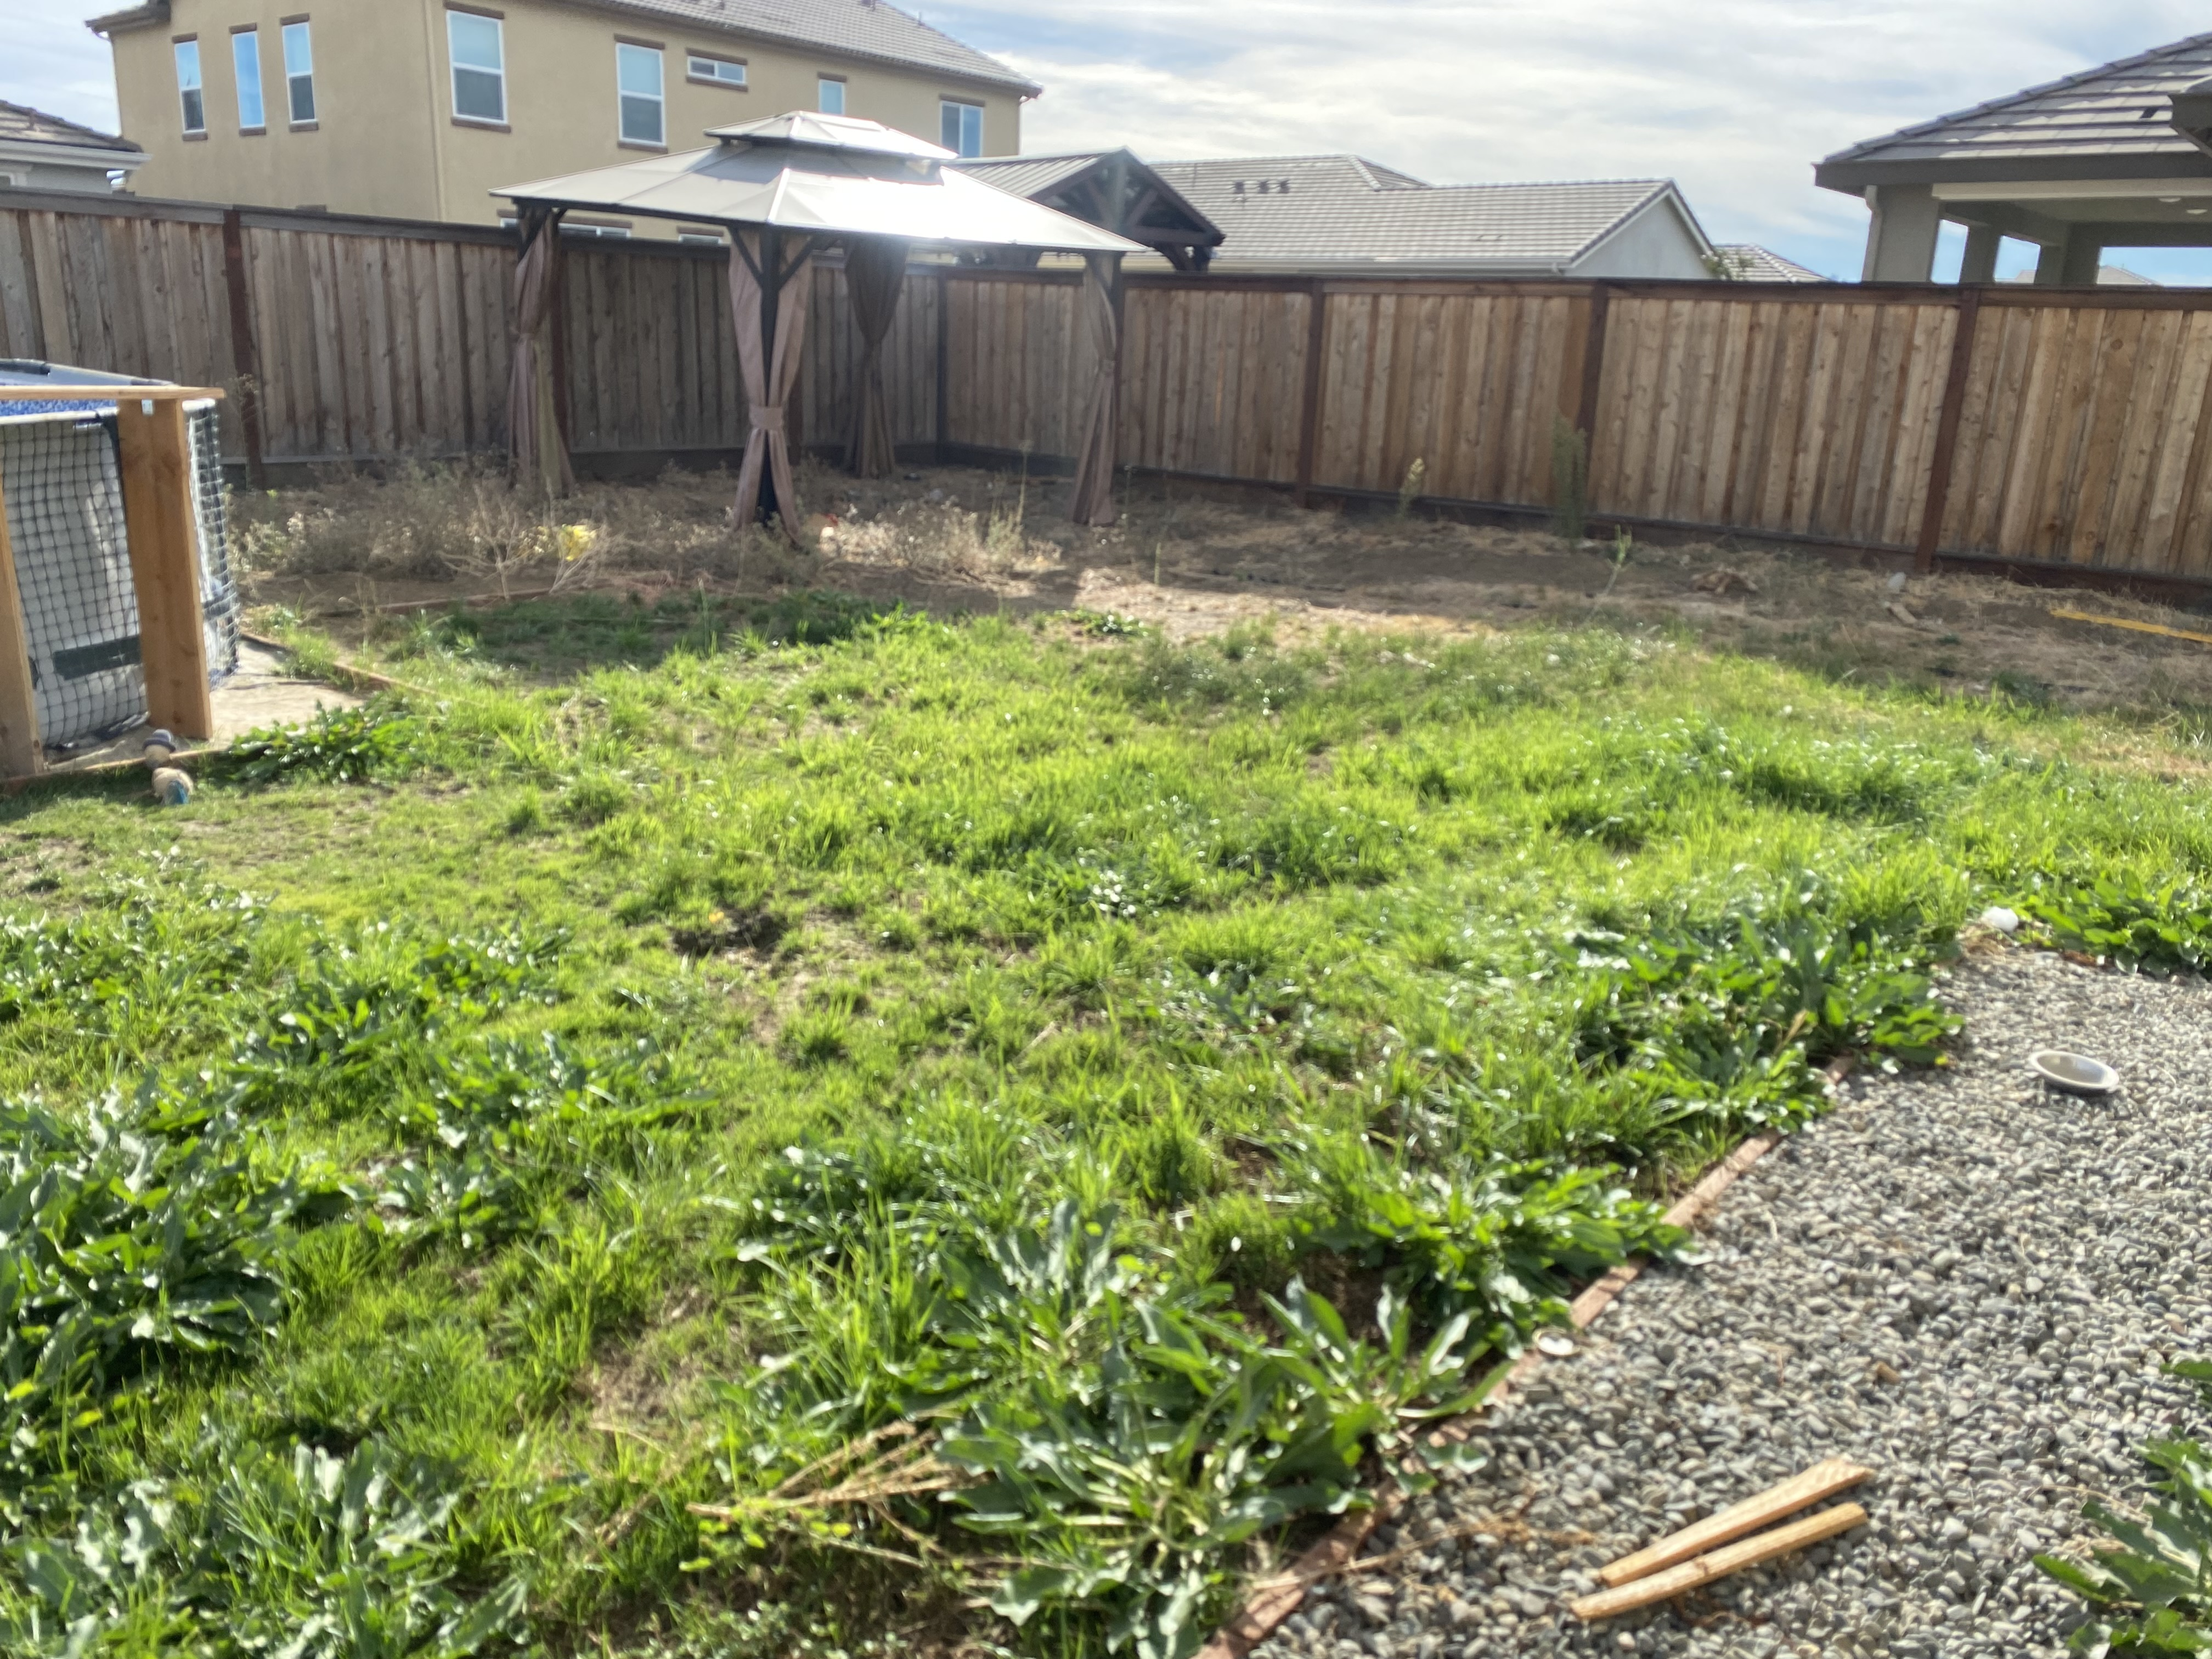weed: (935, 1232, 1385, 1614), (3, 1105, 300, 1370), (1719, 929, 1975, 1070), (244, 711, 394, 774)
